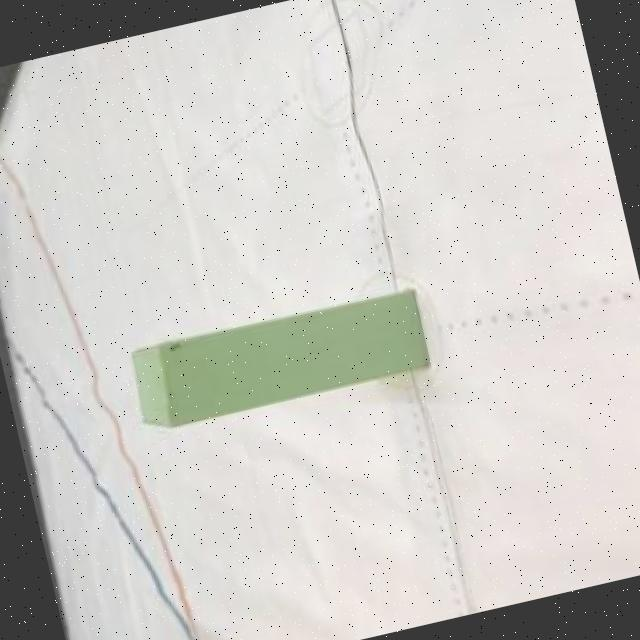greenbox: (126, 284, 430, 438)
